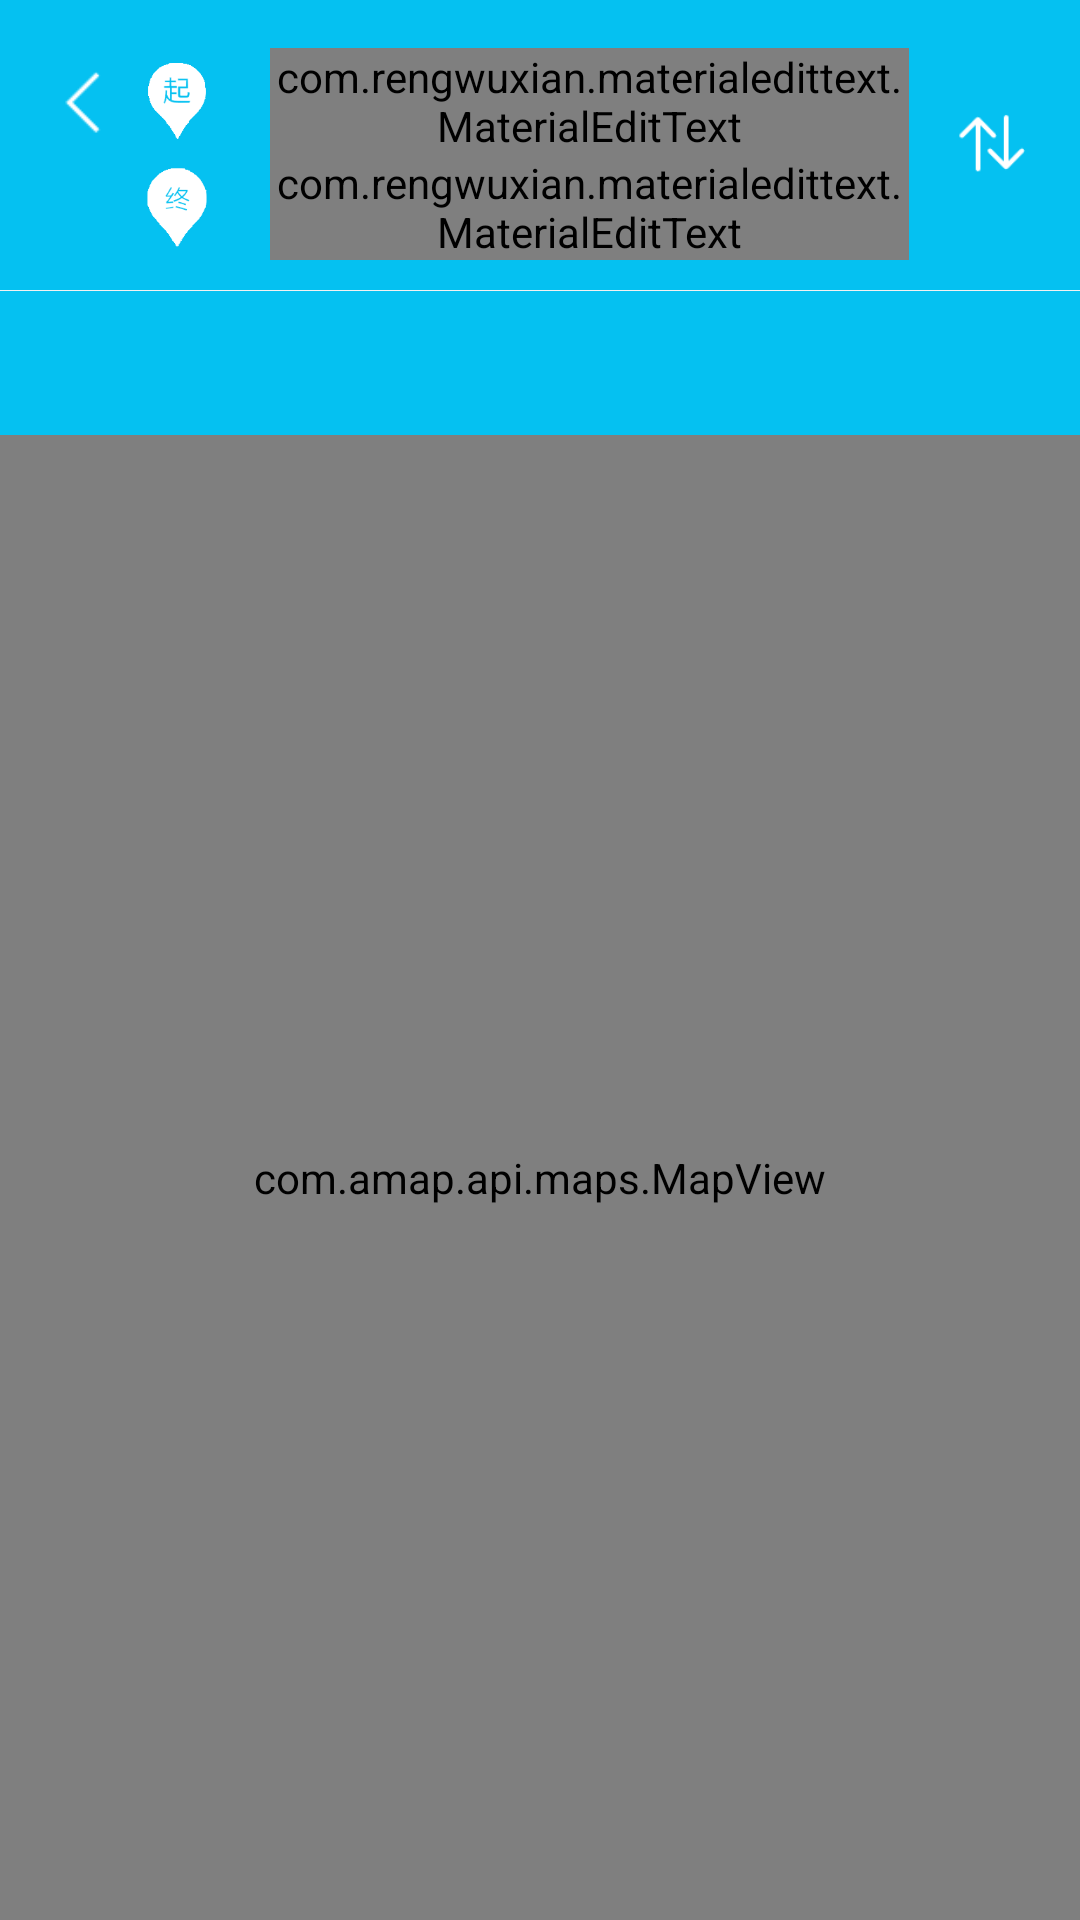

Named icons in this screenshot (1080 x 1920) and their bounding boxes, (x1,y1,x2,y2):
back arrow: (65,72,100,133)
route return: (959,115,1025,172)
